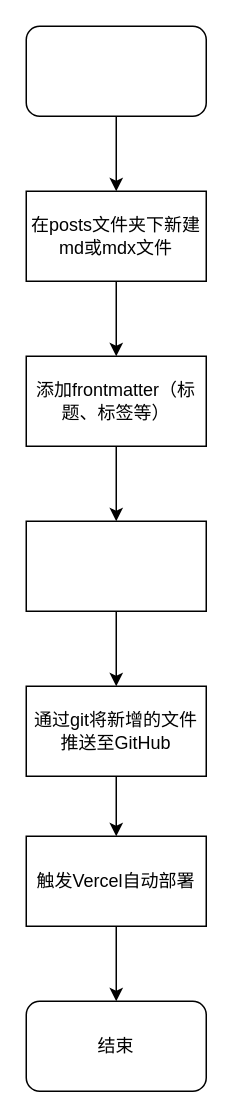
Image size: 233x1118. Some labels were removed from this diagram. The centre of each missing label's shape, as x and y in pixels:
"开始" goes at pixel 115 70.
"添加文章主体内容信息" goes at pixel 115 565.
